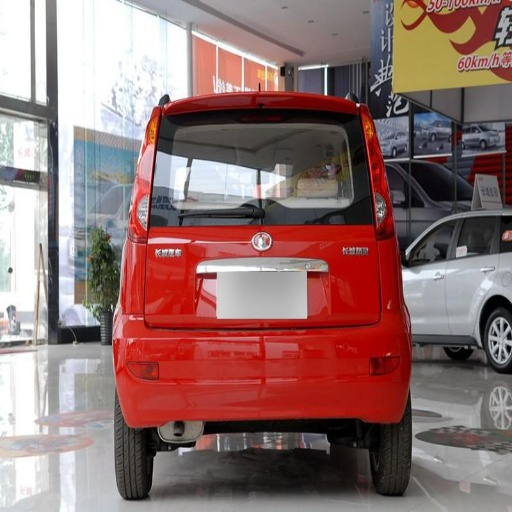back_bumper: (116, 318, 241, 423), (337, 241, 410, 418)
back_glass: (161, 115, 364, 208)
trunk: (128, 210, 388, 413), (475, 256, 509, 307)
